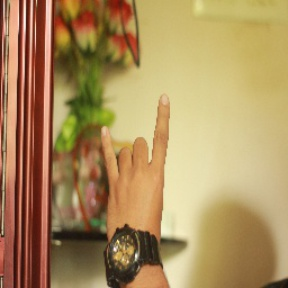V: (93, 92, 175, 242)
